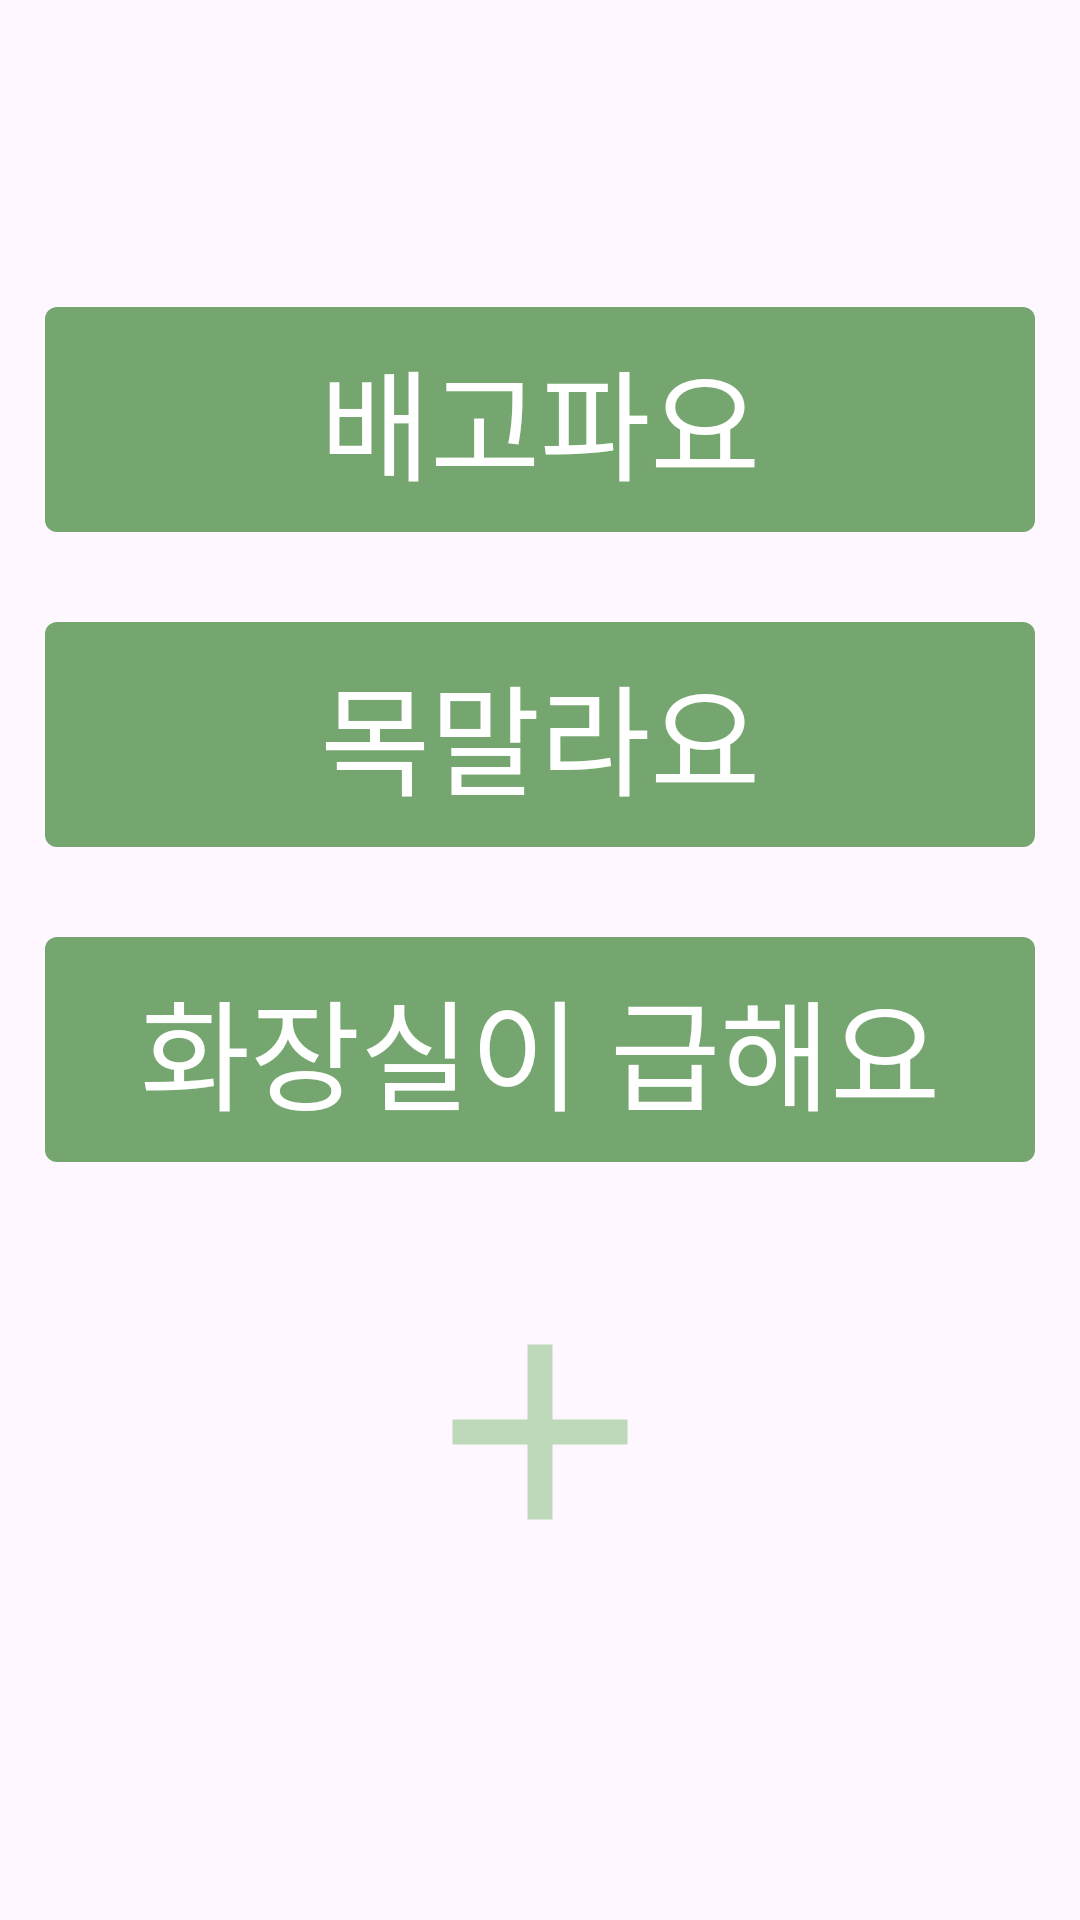

Where to tap for icons on this 1080px×1920px app screen, as (x=x, y=y):
add: (x=540, y=1432)
